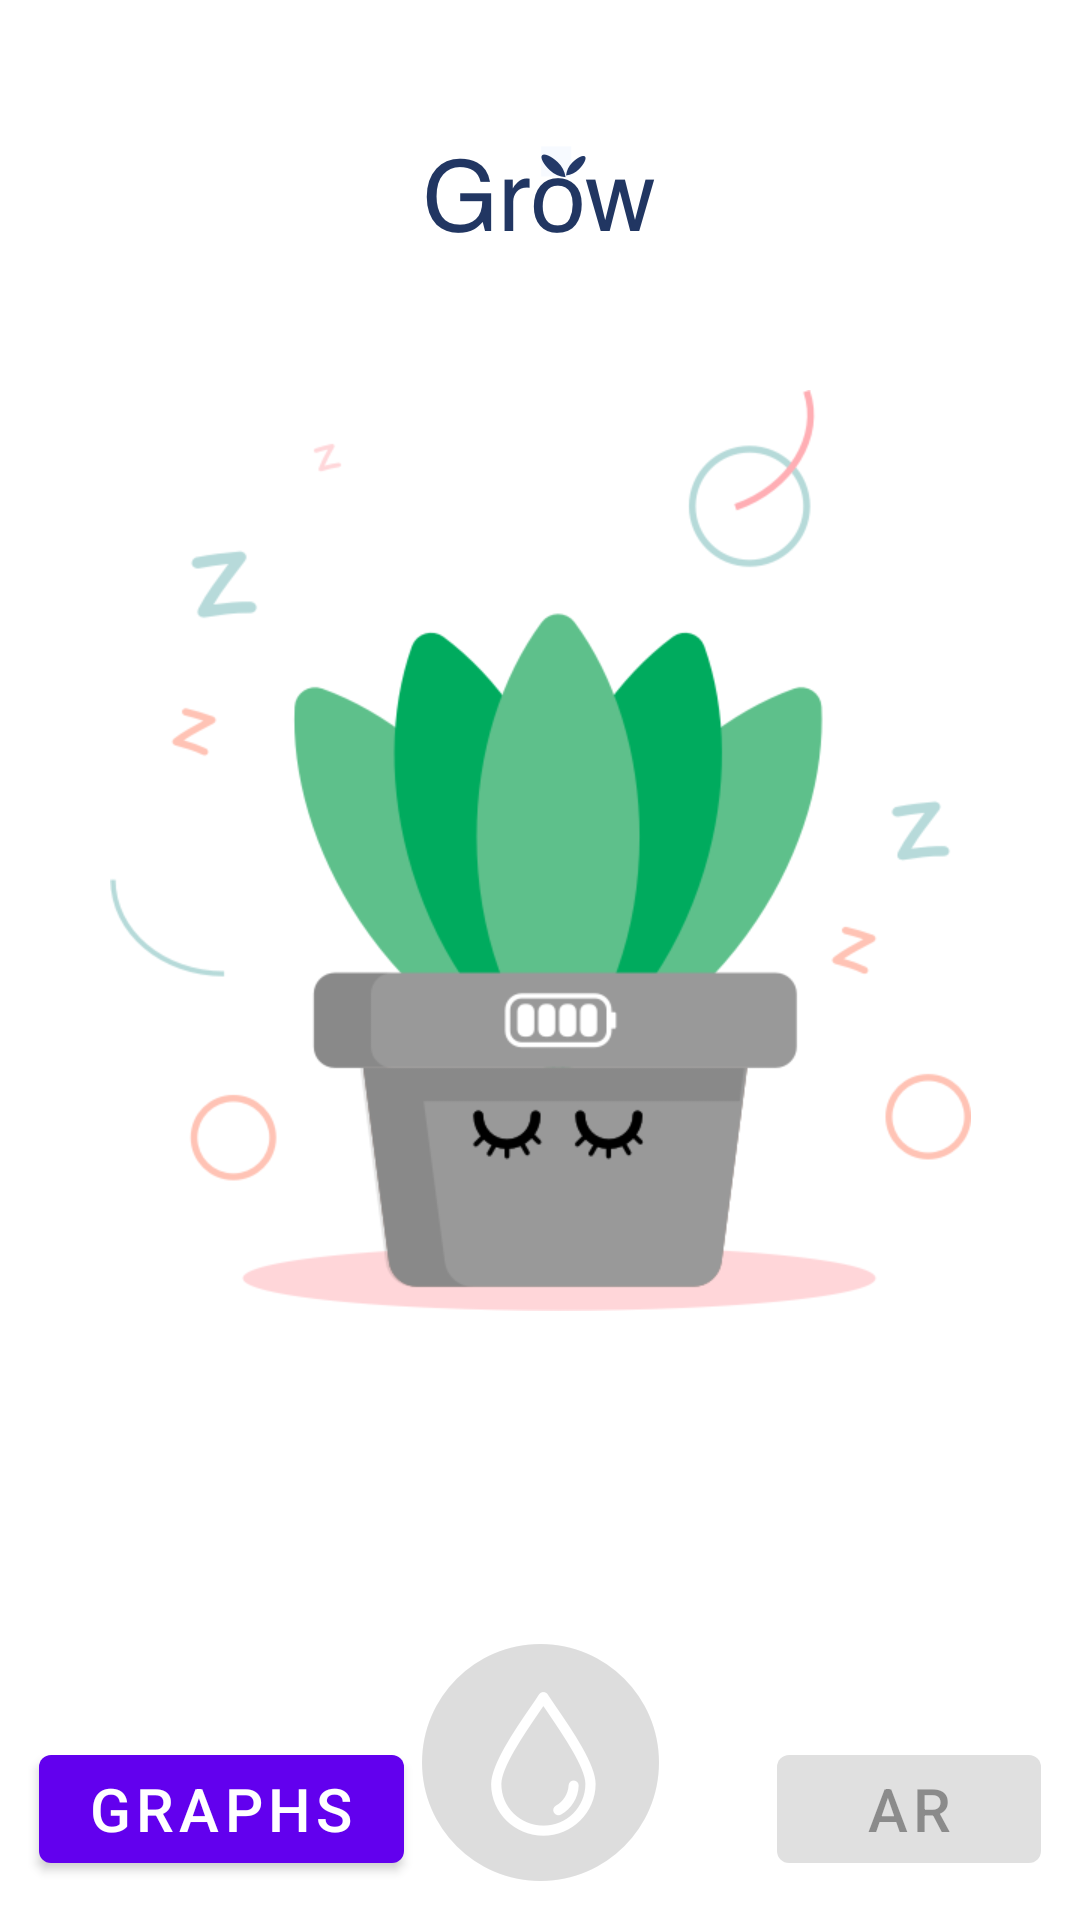

Where to tap for icons on this 1080w x 1920h app screen, as (x,y):
nowater: (540,1762)
